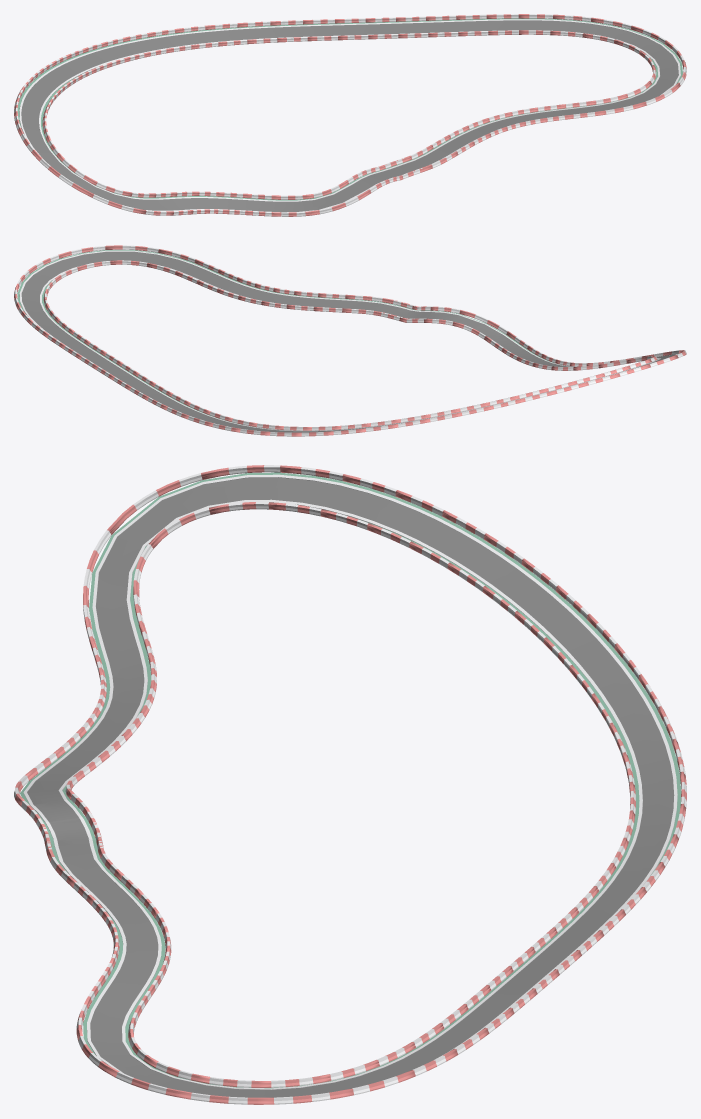
File: RaceTrack_1.fbx
3 views of the same model, one above another, from view 1: azimuth 30°, elevation 25°; view 2: azimuth 150°, elevation 25°; view 3: azimuth 270°, elevation 25° (orthographic). The views are drawn at different scales.
Visible parts, largest first — view 1: barrierWall; view 2: barrierWall; view 3: barrierWall.
Part boxes in pixels (bbox=[...]): barrierWall: bbox=[14, 14, 686, 216]; barrierWall: bbox=[14, 245, 686, 436]; barrierWall: bbox=[14, 465, 686, 1104].
Size of the model in its own units: 27391 by 3292 by 14561.
